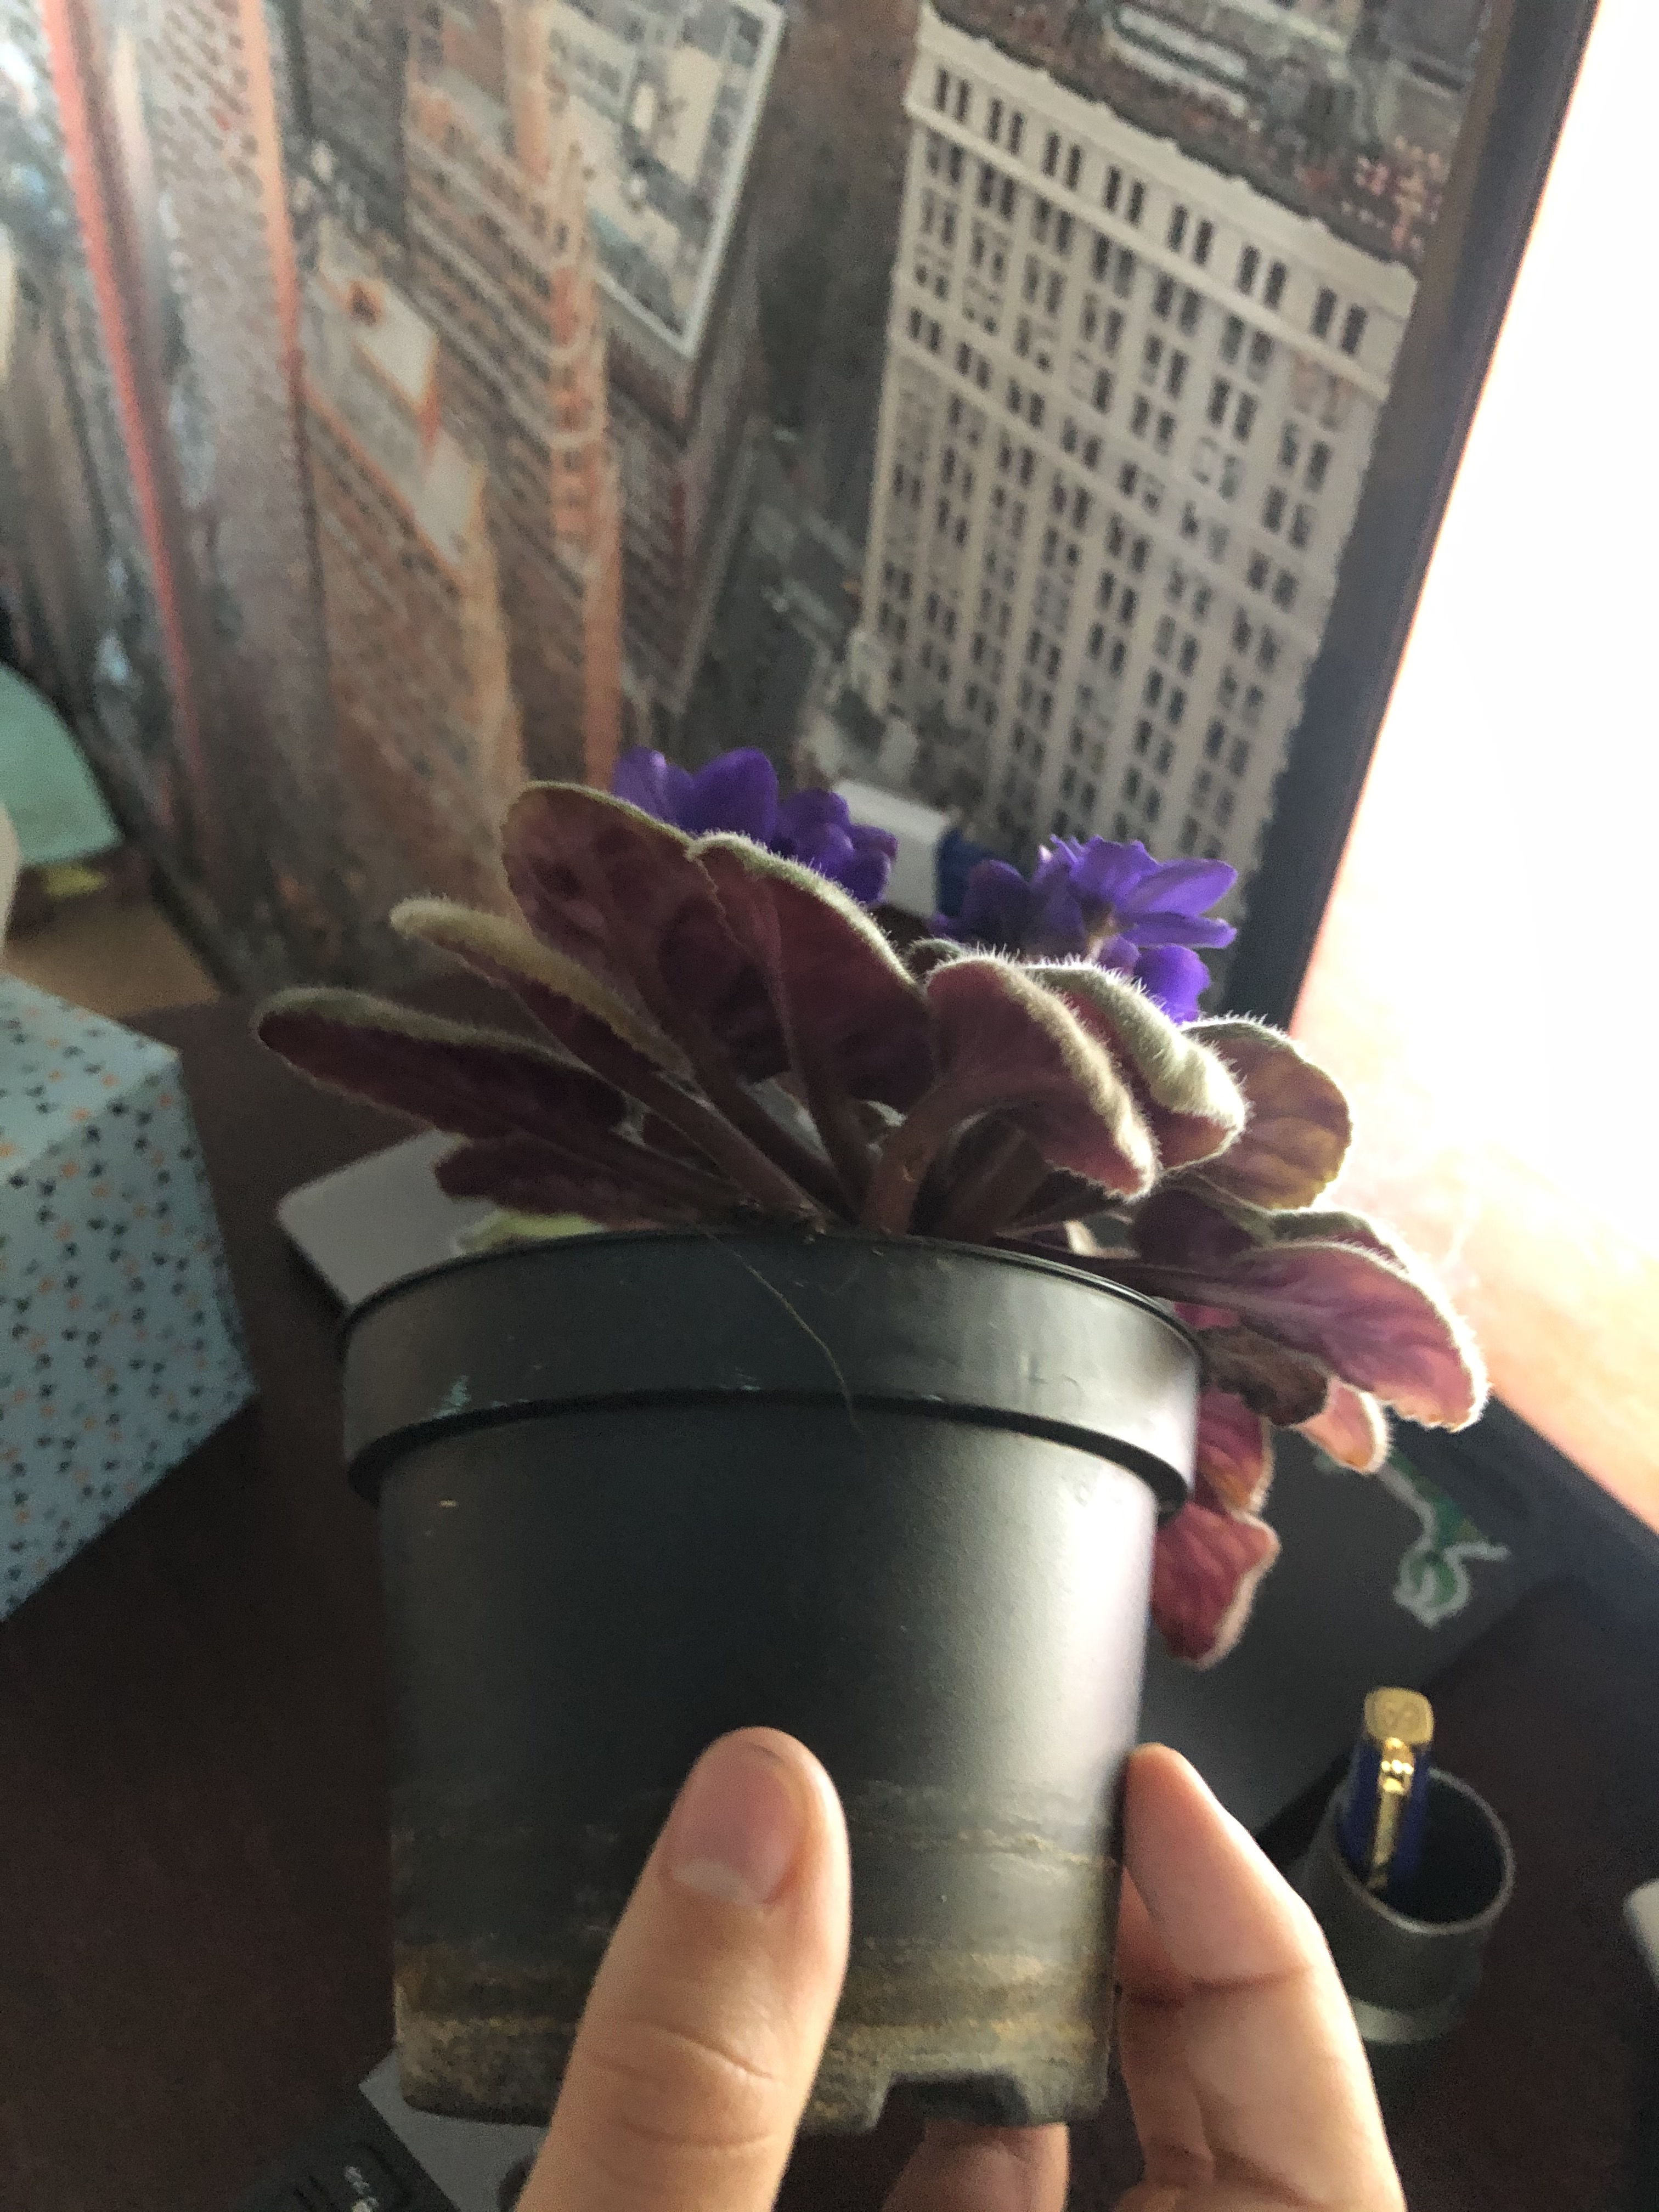ignore: (157, 671, 1483, 1460)
